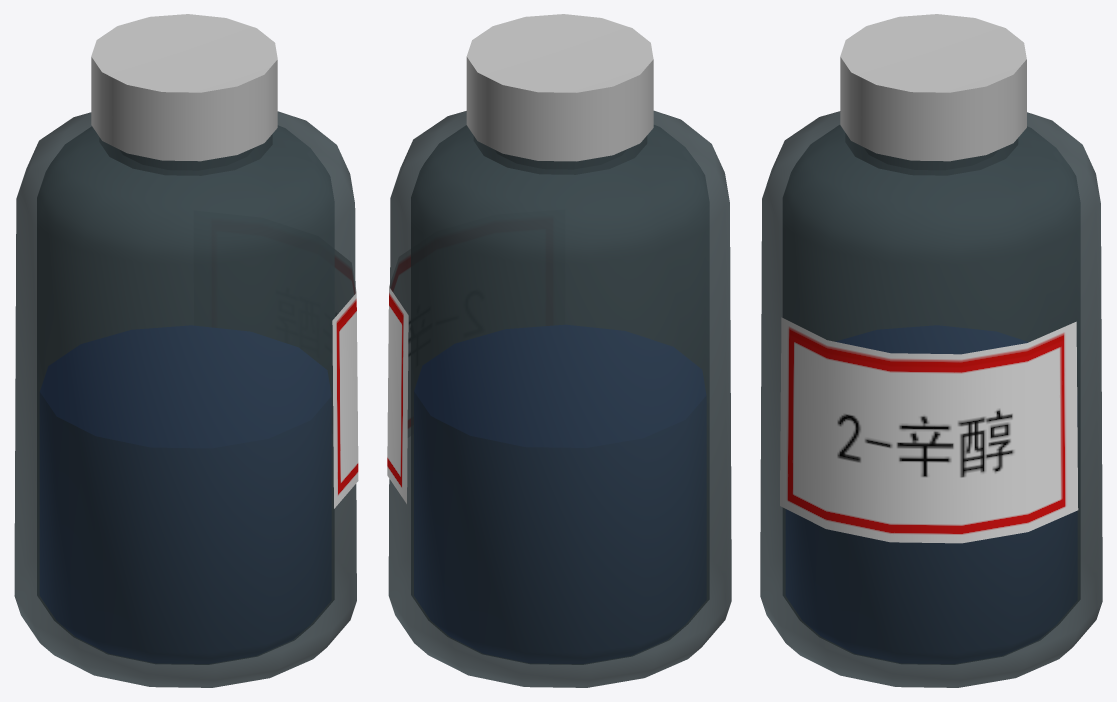
The picture shows the model from 3 angles, left to right: view 1: azimuth 30°, elevation 25°; view 2: azimuth 150°, elevation 25°; view 3: azimuth 270°, elevation 25°; orthographic projection.
Parts seen in each view (by area): view 1: SM_2辛醇_瓶体, SM_2辛醇_盖子; view 2: SM_2辛醇_瓶体, SM_2辛醇_盖子; view 3: SM_2辛醇_瓶体, SM_2辛醇_盖子.
Part boxes in pixels (bbox=[...]): SM_2辛醇_瓶体: bbox=[14, 111, 358, 687]; SM_2辛醇_盖子: bbox=[91, 14, 277, 161]; SM_2辛醇_瓶体: bbox=[387, 110, 731, 687]; SM_2辛醇_盖子: bbox=[466, 14, 653, 161]; SM_2辛醇_瓶体: bbox=[760, 111, 1102, 687]; SM_2辛醇_盖子: bbox=[840, 14, 1026, 161].
Bounding box in the file's own units: 46.99 × 87.24 × 46.85.
